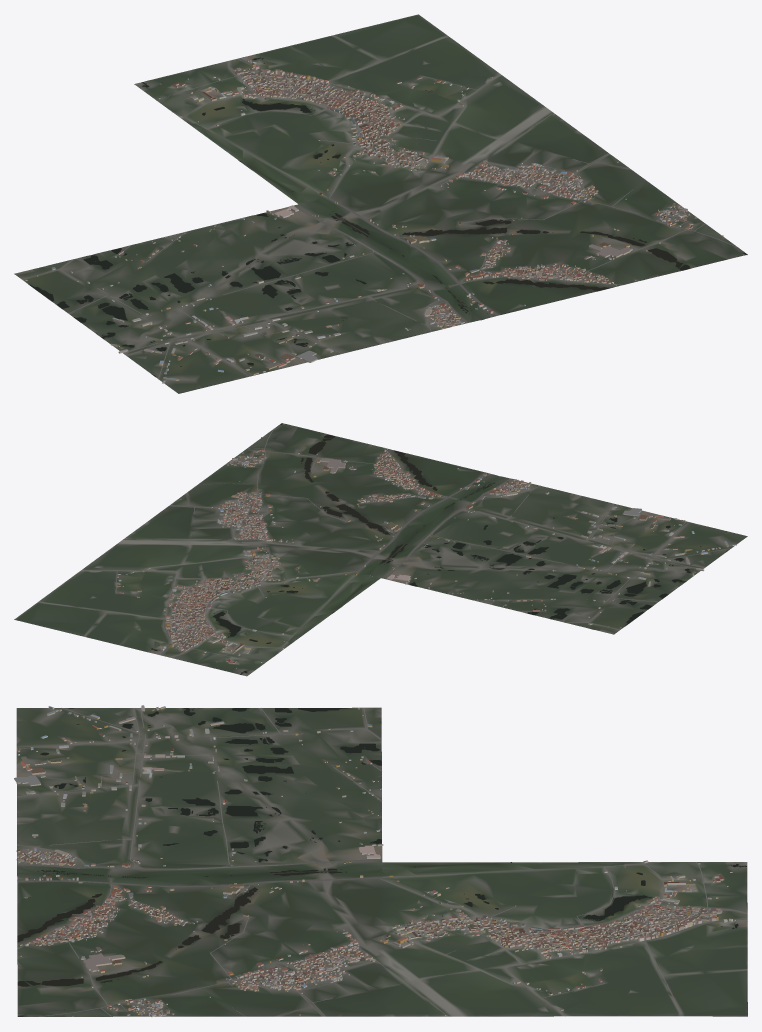
3 renders of one model, top to bottom at view 1: azimuth 30°, elevation 25°; view 2: azimuth 150°, elevation 25°; view 3: azimuth 270°, elevation 25°, orthographic. The views are drawn at different scales.
Parts seen in each view (by area): view 1: ground, buildings, water, roads; view 2: ground, buildings, water, roads; view 3: ground, buildings, water, roads.
Boxes of the visible parts, x1=… form: ground: x1=14, y1=14, x2=747, y2=393; buildings: x1=25, y1=60, x2=723, y2=383; water: x1=29, y1=57, x2=747, y2=376; roads: x1=22, y1=35, x2=738, y2=379; ground: x1=14, y1=423, x2=747, y2=676; buildings: x1=90, y1=437, x2=736, y2=668; water: x1=138, y1=423, x2=727, y2=674; roads: x1=38, y1=429, x2=731, y2=662; ground: x1=16, y1=707, x2=747, y2=1016; buildings: x1=14, y1=705, x2=735, y2=1016; water: x1=17, y1=708, x2=746, y2=1016; roads: x1=17, y1=707, x2=747, y2=1016.
Bounding box in the file's own units: 2823 × 24.47 × 2818.
